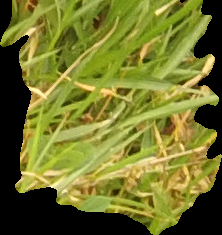grass: (1, 1, 221, 234)
